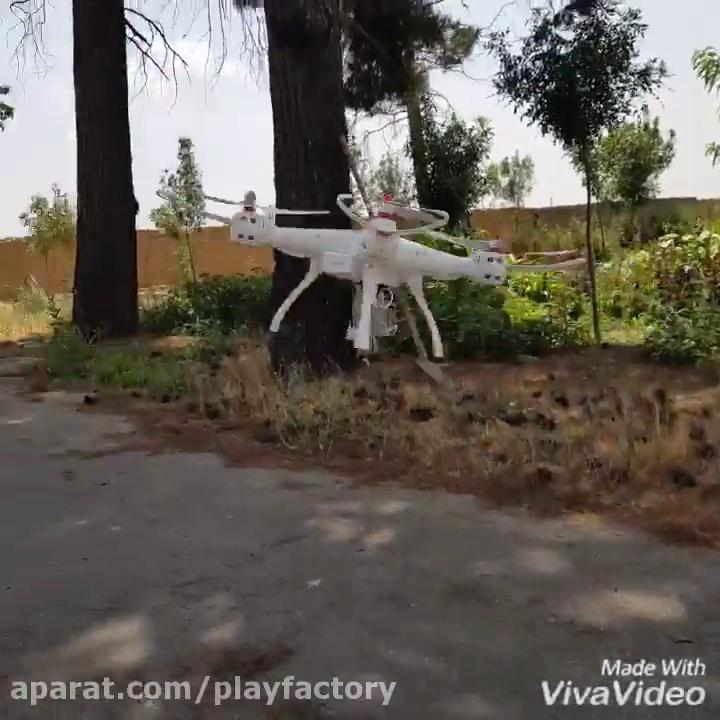drone: (149, 188, 587, 357)
